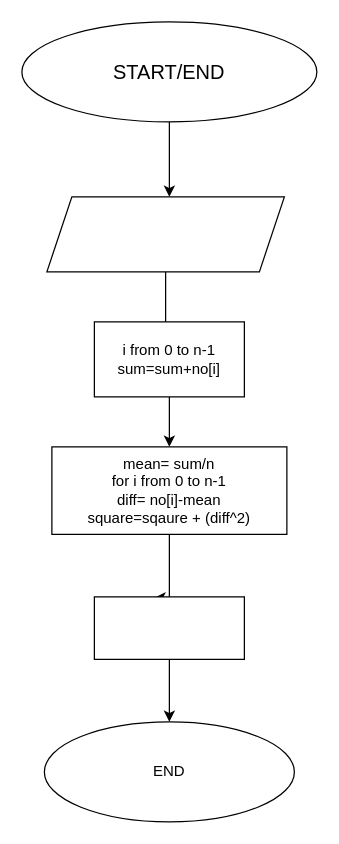
This 339x844 diagram has some shape labels left out. The shapes that lost their labels are listed below. From the top down, each one's centre as x and y in pixels, then its label:
At point 165,234: "READ Array of NUMBERS n sum=0 ,diff=0 , square =0".
At point 168,627: "sd= square /n print sd".
